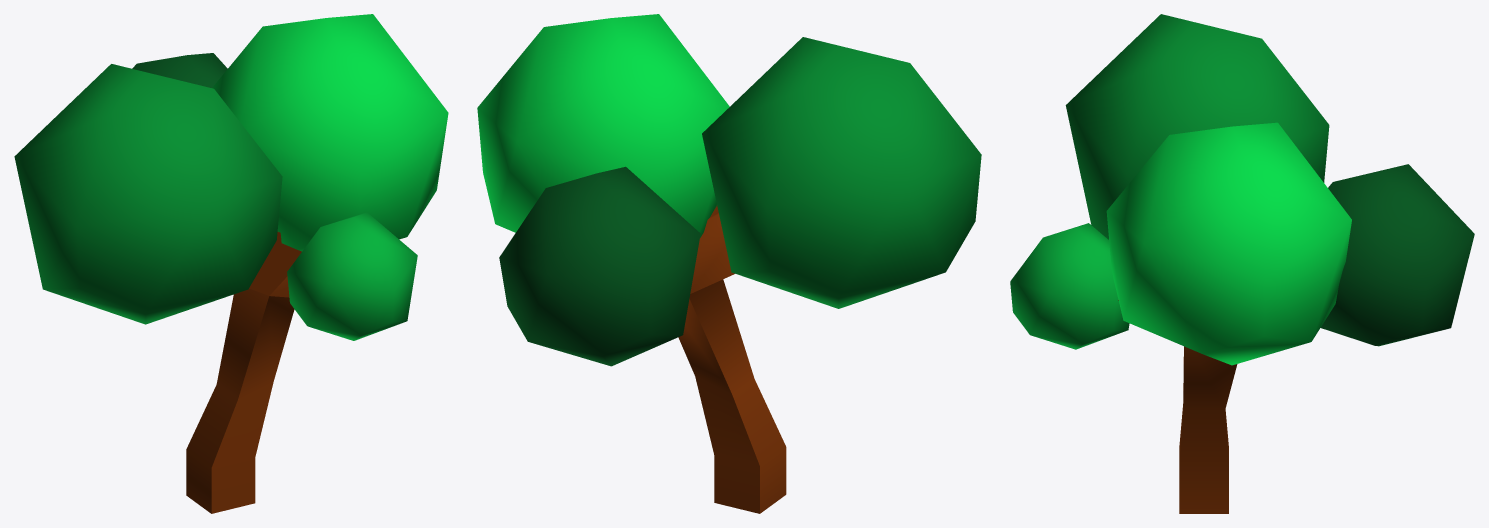
File: Tree 5.fbx
The picture shows the model from 3 angles, left to right: view 1: azimuth 30°, elevation 25°; view 2: azimuth 150°, elevation 25°; view 3: azimuth 270°, elevation 25°; orthographic projection. The views are drawn at different scales.
Visible parts, largest first — view 1: Kugel_2, Kugel_1, Würfel, Kugel, Kugel_3; view 2: Kugel_2, Kugel_1, Kugel_3, Würfel; view 3: Kugel_1, Kugel_2, Kugel_3, Kugel, Würfel.
Part boxes in pixels (<box>): Kugel_2: <box>14,64,282,324</box>; Kugel_1: <box>212,14,448,251</box>; Würfel: <box>186,232,301,513</box>; Kugel: <box>287,212,417,340</box>; Kugel_3: <box>132,53,227,87</box>; Kugel_2: <box>702,37,981,308</box>; Kugel_1: <box>477,14,729,237</box>; Kugel_3: <box>499,166,700,366</box>; Würfel: <box>678,205,786,513</box>; Kugel_1: <box>1106,122,1351,365</box>; Kugel_2: <box>1065,14,1329,239</box>; Kugel_3: <box>1320,164,1474,346</box>; Kugel: <box>1010,223,1129,349</box>; Würfel: <box>1118,300,1237,513</box>.
Bounding box in the file's own units: 189 × 196 × 187.
